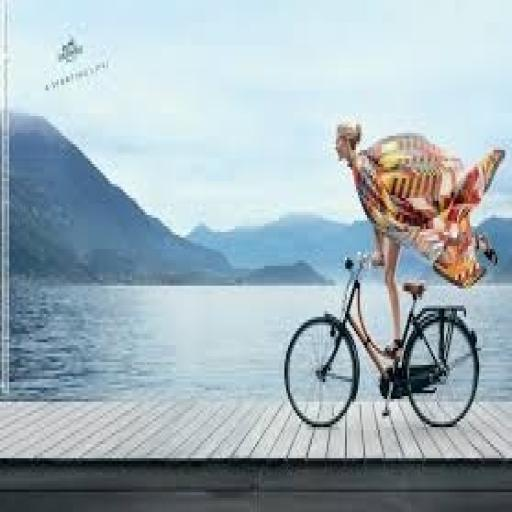cycling: (332, 116, 507, 365)
